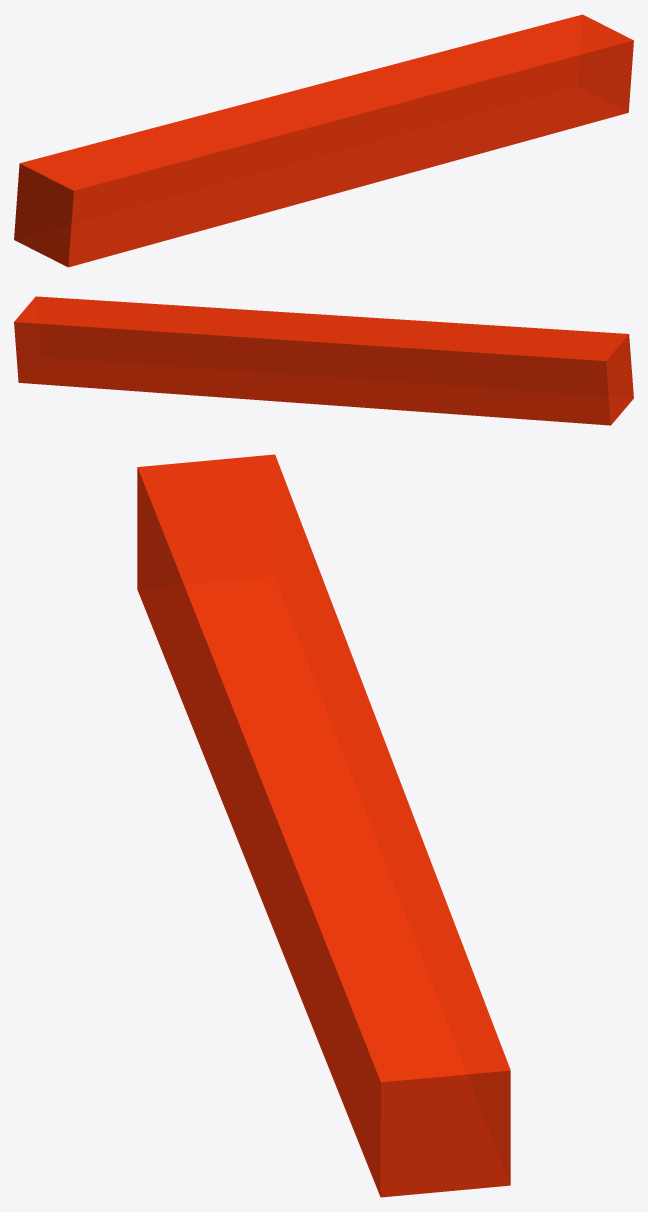
File: Event_421127236_EErechit_8.fbx
3 renders of one model, top to bottom at view 1: azimuth 30°, elevation 25°; view 2: azimuth 150°, elevation 25°; view 3: azimuth 270°, elevation 25°, orthographic. The views are drawn at different scales.
Parts seen in each view (by area): view 1: Model; view 2: Model; view 3: Model.
Part boxes in pixels (left/top/right/bottom): Model: left=14, top=14, right=633, bottom=267; Model: left=14, top=296, right=633, bottom=425; Model: left=137, top=454, right=510, bottom=1197.
Bounding box in the file's own units: 0.6953 × 0.1312 × 0.205.
